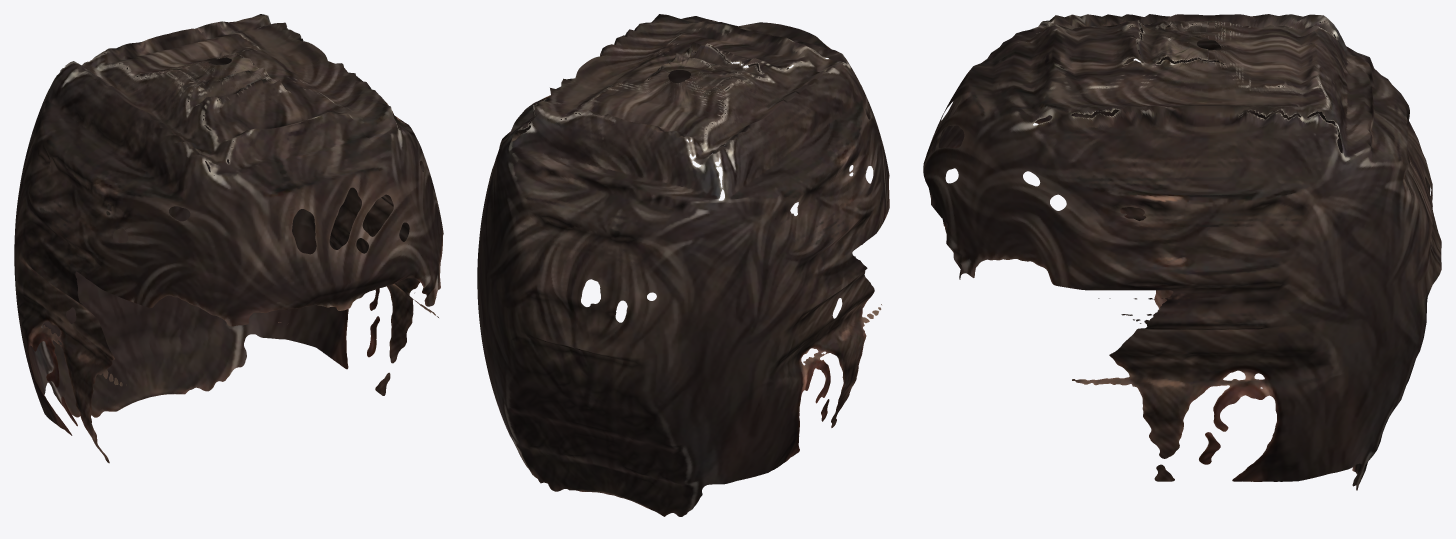
File: despeinado_ficha.glb
3 views of the same model, side by side, from view 1: azimuth 30°, elevation 25°; view 2: azimuth 150°, elevation 25°; view 3: azimuth 270°, elevation 25° (orthographic). The views are drawn at different scales.
Parts seen in each view (by area): view 1: Peinado_Despeinado_Ficha; view 2: Peinado_Despeinado_Ficha; view 3: Peinado_Despeinado_Ficha.
Part boxes in pixels (left/top/right/bottom): Peinado_Despeinado_Ficha: left=14, top=14, right=443, bottom=463; Peinado_Despeinado_Ficha: left=477, top=14, right=889, bottom=516; Peinado_Despeinado_Ficha: left=923, top=14, right=1441, bottom=490.
Bounding box in the file's own units: 0.1905 × 0.2178 × 0.2384.
1 material, 1 textured.
